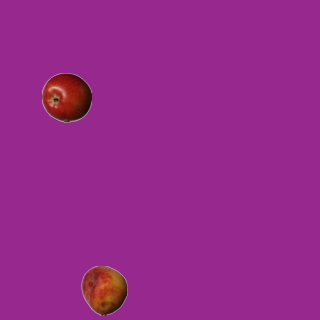Apple Braeburn: (41, 72, 91, 122)
Peach: (79, 265, 129, 315)
